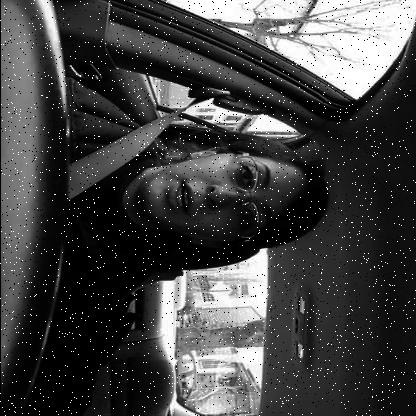seatbelt: (0, 86, 344, 277)
